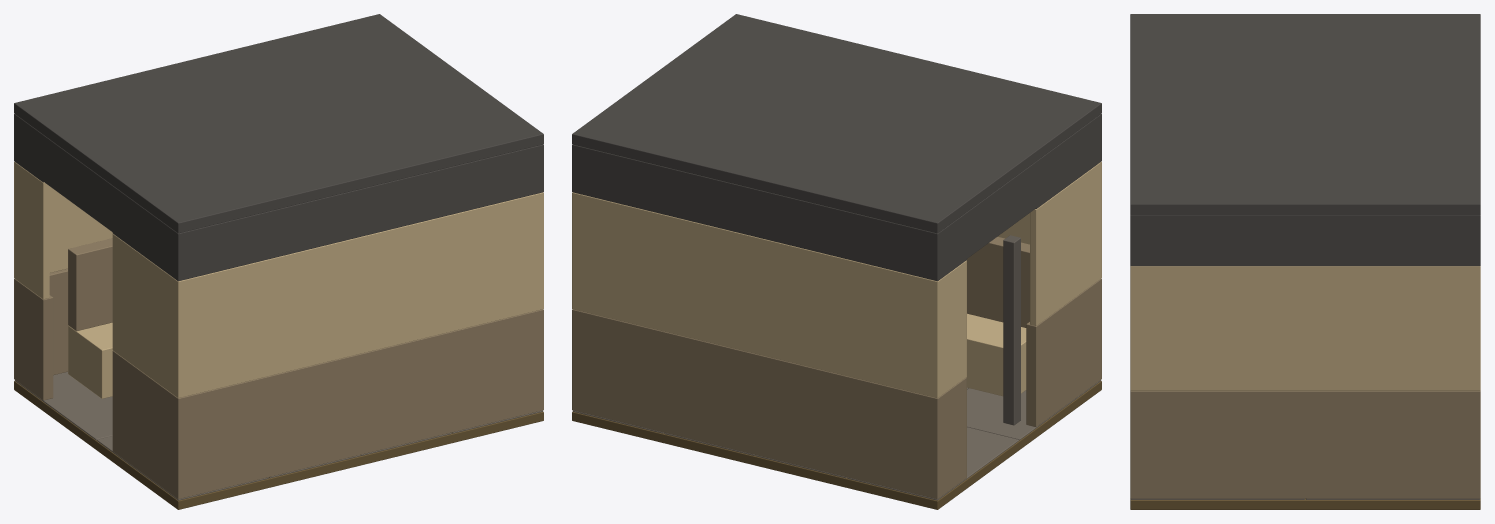
File: gen-lockers.glb
3 views of the same model, side by side, from view 1: azimuth 30°, elevation 25°; view 2: azimuth 150°, elevation 25°; view 3: azimuth 270°, elevation 25° (orthographic). The views are drawn at different scales.
Visible parts, largest first — view 1: THE LOCKERS; view 2: THE LOCKERS; view 3: THE LOCKERS.
Boxes of the visible parts, left/top/right/bottom form: THE LOCKERS: left=14, top=14, right=543, bottom=509; THE LOCKERS: left=572, top=14, right=1101, bottom=509; THE LOCKERS: left=1130, top=14, right=1480, bottom=509.
Bounding box in the file's own units: 3.6 × 2.7 × 2.8.
